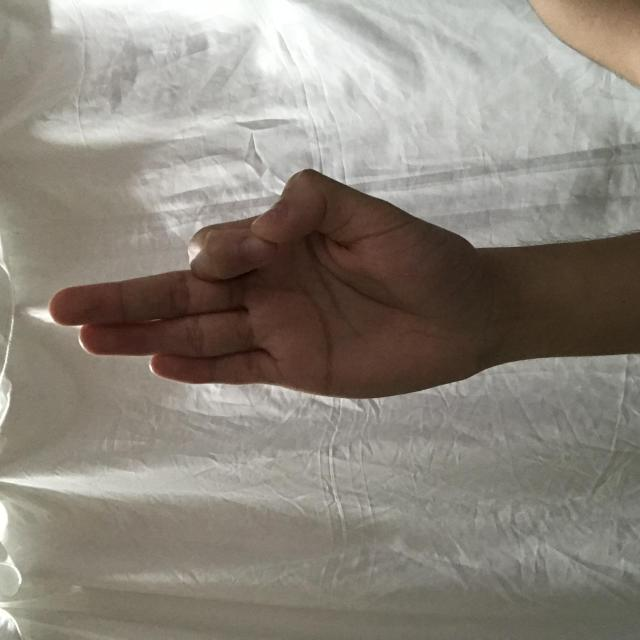F: (240, 53, 475, 493)
